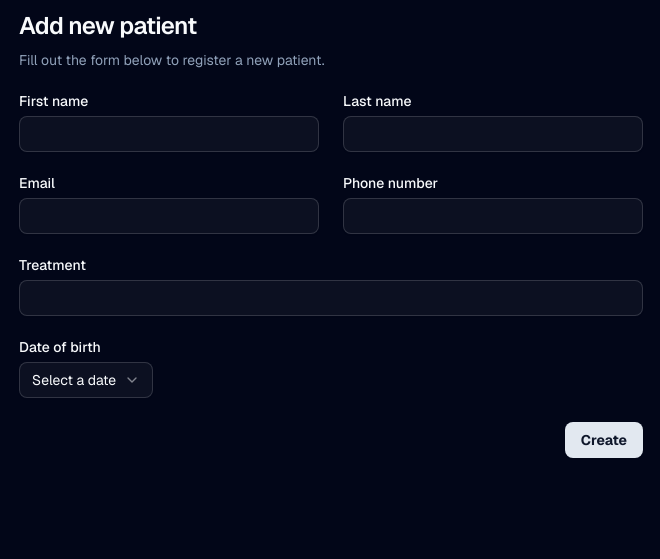
PatientForm › validates email format
In the field labelled "Email": (169, 216) [19,198,319,234], type "invalid-email"
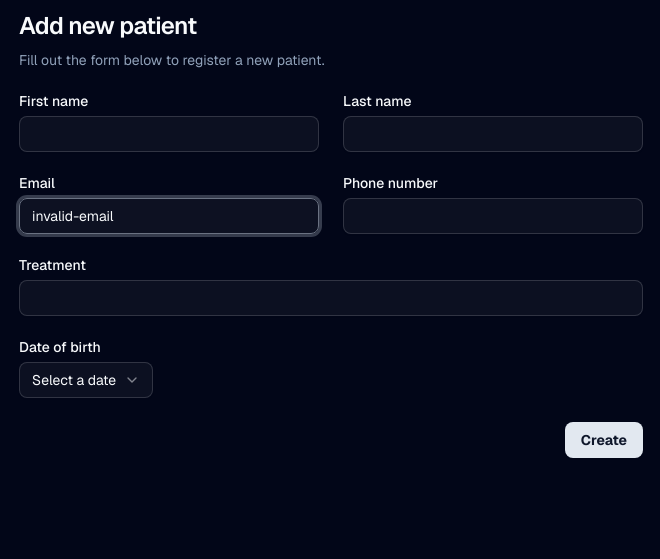
Click the button "Create": (604, 440) [565,422,643,458]
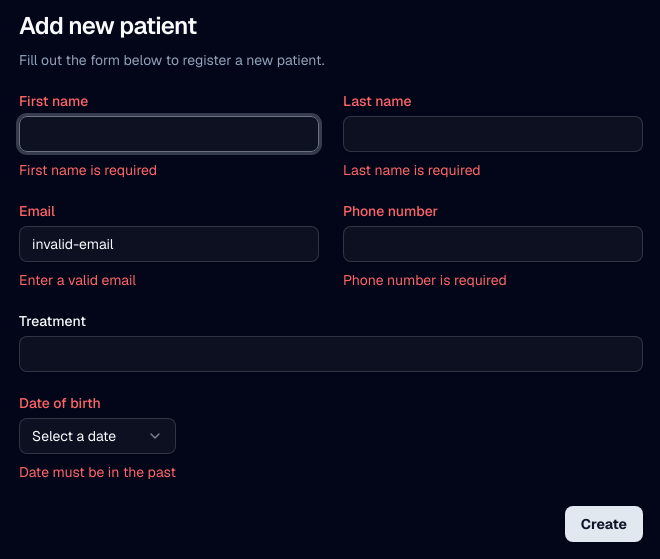
Expected: the text "Enter a valid email" is shown, [19,271,136,289]
